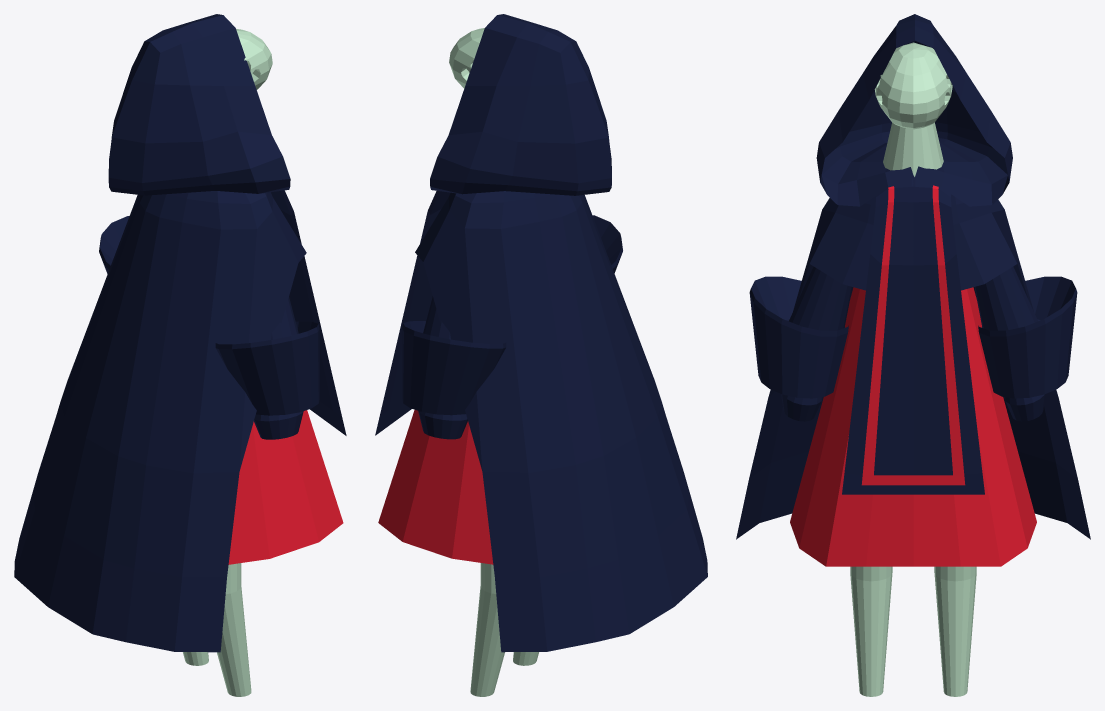
File: envoy.glb
3 renders of one model, left to right at view 1: azimuth 30°, elevation 25°; view 2: azimuth 150°, elevation 25°; view 3: azimuth 270°, elevation 25°, orthographic.
Visible parts, largest first — view 1: Cylinder.001, hood, Cylinder.002, Cylinder.004, Cylinder.003, Plane, head; view 2: Cylinder.001, hood, Cylinder.002, Cylinder.004, Cylinder.003, Plane, head; view 3: Plane, Cylinder.002, Cylinder.004, Cylinder.001, hood, Cylinder.003, head, Plane.001.
Boxes of the visible parts, x1,y1,x2,y2 form: Cylinder.001: (14, 191, 306, 652); hood: (108, 14, 290, 195); Cylinder.002: (228, 410, 343, 564); Cylinder.004: (99, 216, 319, 439); Cylinder.003: (183, 563, 251, 696); Plane: (271, 190, 346, 435); head: (236, 29, 272, 89); Cylinder.001: (415, 191, 707, 652); hood: (430, 14, 611, 195); Cylinder.002: (378, 410, 493, 564); Cylinder.004: (402, 215, 622, 439); Cylinder.003: (470, 563, 538, 696); Plane: (375, 191, 450, 435); head: (449, 28, 484, 88); Plane: (842, 178, 984, 494); Cylinder.002: (790, 287, 1036, 566); Cylinder.004: (749, 266, 1077, 421); Cylinder.001: (736, 194, 1090, 539); hood: (816, 14, 1012, 206); Cylinder.003: (850, 566, 976, 696); head: (874, 42, 952, 176); Plane.001: (861, 185, 965, 485).
Bounding box in the file's own units: 5.91 × 14.17 × 6.97.
